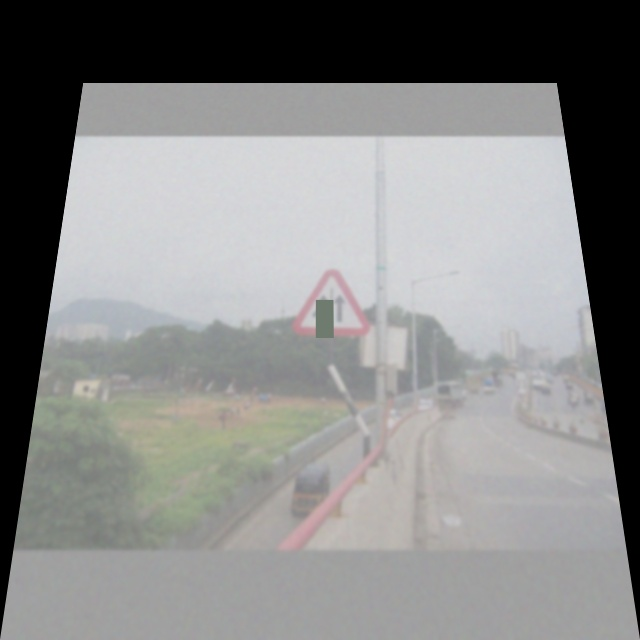Merge_Traffic_Ahead: (288, 261, 368, 343)
